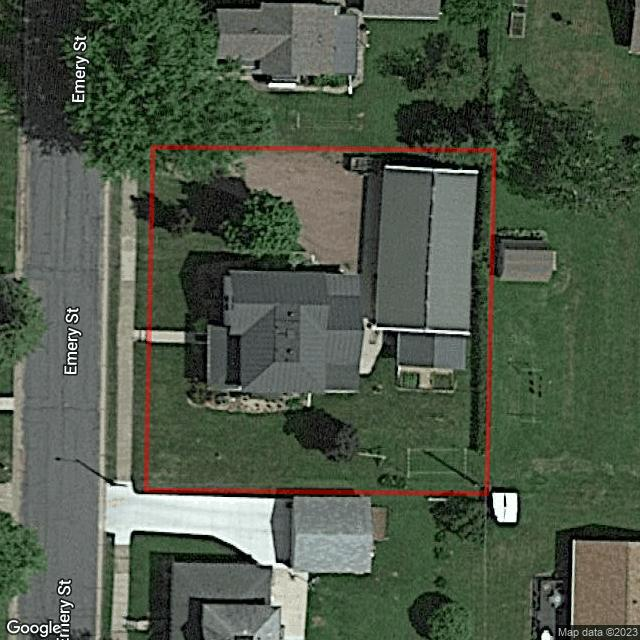Driveway: (152, 330, 206, 344)
Extra Driveway: (102, 145, 121, 489), (151, 331, 186, 344), (134, 330, 146, 341)
Extra Lawn: (135, 146, 150, 328), (135, 343, 146, 491)
Extra Sidewalk: (115, 146, 139, 492), (111, 551, 129, 639)
House: (208, 270, 362, 397)
Other: (376, 165, 478, 329), (282, 408, 359, 461), (188, 382, 310, 414), (398, 332, 465, 369), (359, 318, 382, 374), (350, 156, 371, 172)
